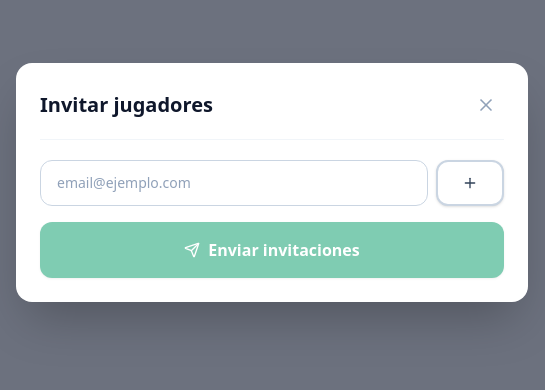
Test: InviteModal › prevents duplicate emails
The width and height of the screenshot is (545, 390).
In the field with placeholder "email@ejemplo.com": (234, 182) [40,160,428,206], type "test@example.com"
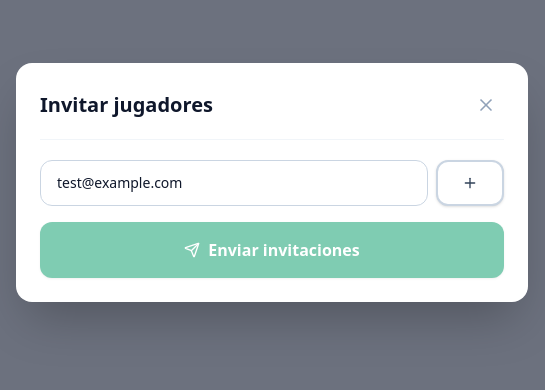
Click the button named "Agregar email": (470, 182) [436,160,504,206]
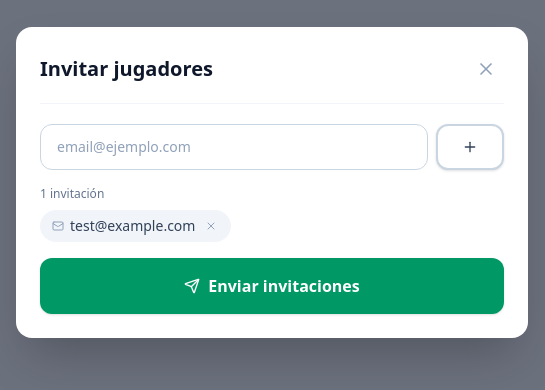
In the field with placeholder "email@ejemplo.com": (234, 146) [40,124,428,170], type "test@example.com"
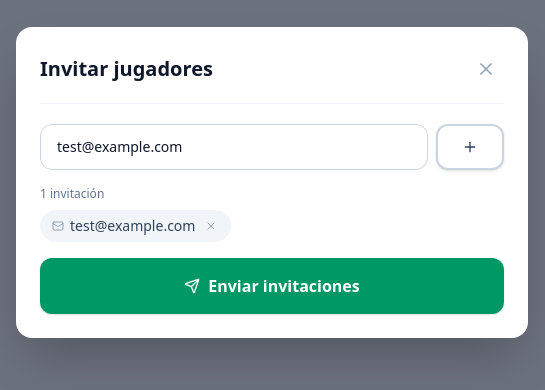
Click the button named "Agregar email": (470, 146) [436,124,504,170]
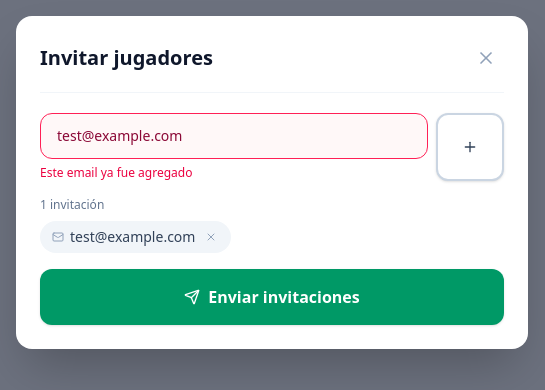
Expected: the text "Este email ya fue agregado" is shown, [40,164,192,180]
